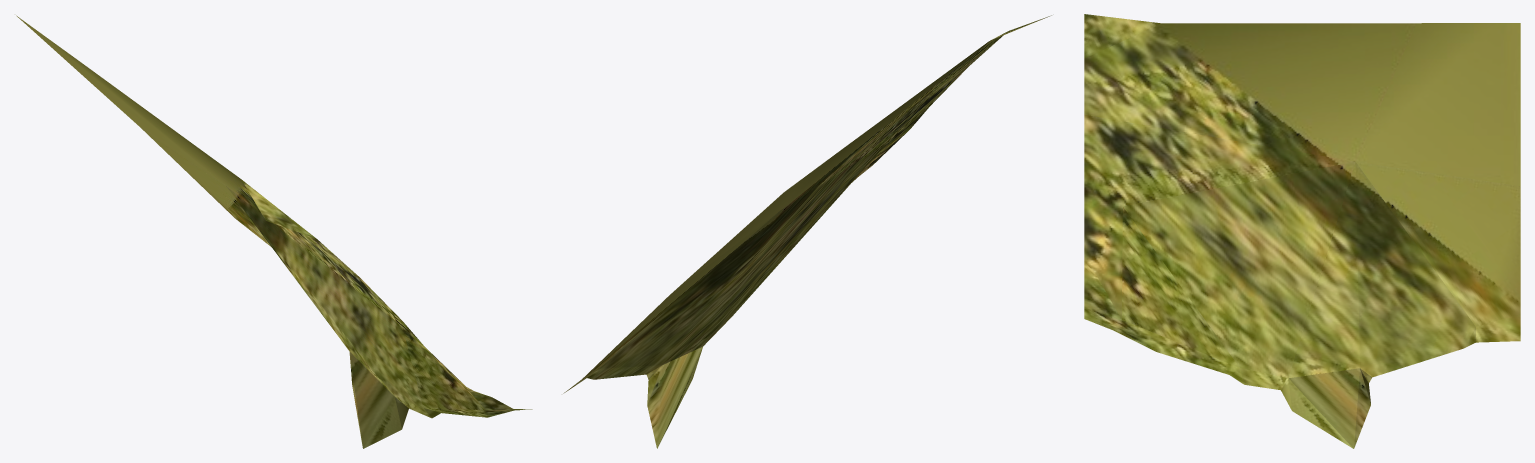
The picture shows the model from 3 angles, left to right: view 1: azimuth 30°, elevation 25°; view 2: azimuth 150°, elevation 25°; view 3: azimuth 270°, elevation 25°; orthographic projection. The views are drawn at different scales.
Size of the model in its own units: 1.65 by 2.47 by 2.95.
2 materials, 2 textured.
